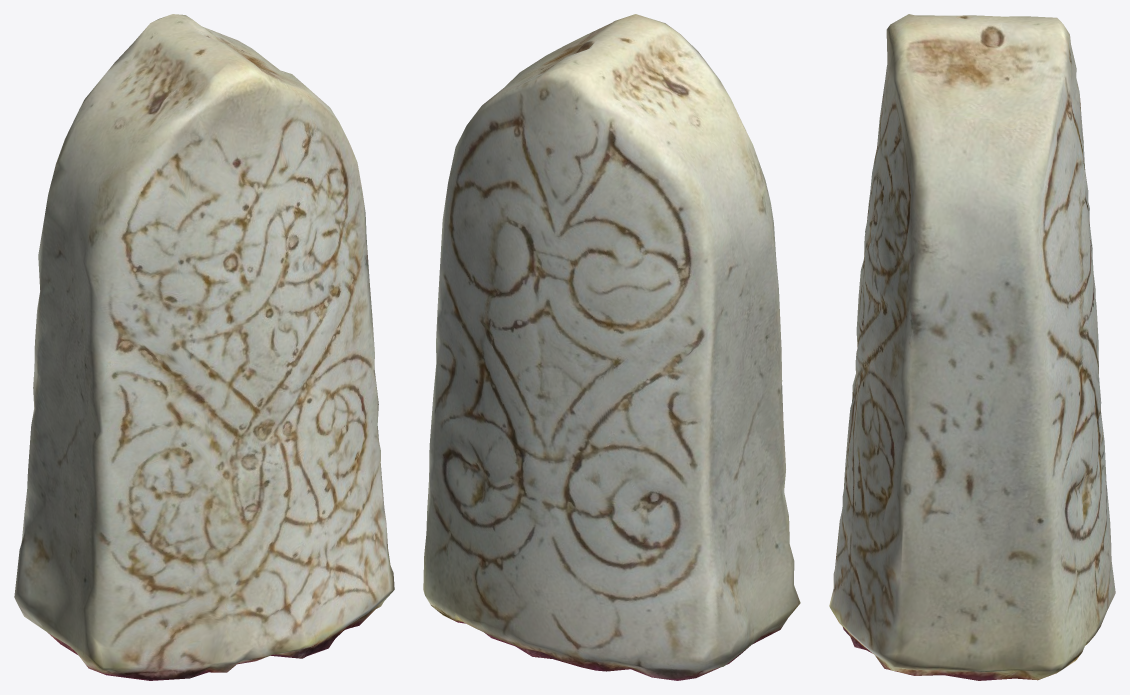
Rendered from lewis-pawn.glb.
The picture shows the model from 3 angles, left to right: view 1: azimuth 30°, elevation 25°; view 2: azimuth 150°, elevation 25°; view 3: azimuth 270°, elevation 25°; orthographic projection. The views are drawn at different scales.
Visible parts, largest first — view 1: Mesh_0; view 2: Mesh_0; view 3: Mesh_0.
Boxes of the visible parts, bbox=[...] form: Mesh_0: bbox=[14, 14, 394, 680]; Mesh_0: bbox=[423, 14, 800, 680]; Mesh_0: bbox=[829, 14, 1115, 680].
Bounding box in the file's own units: 0.0241 × 0.043 × 0.0187.
Materials: 1 (1 with a texture image).
